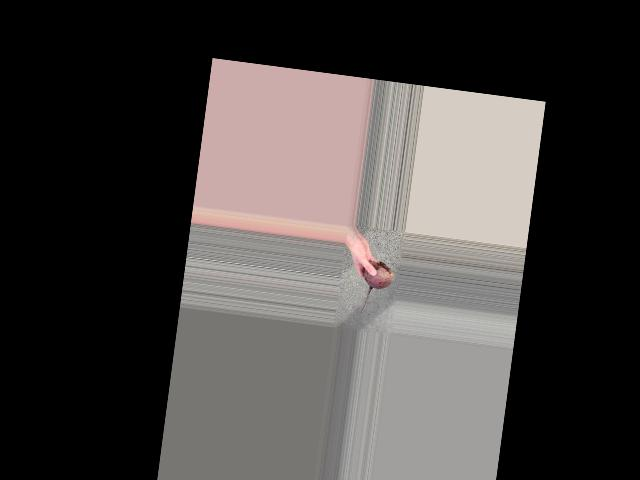beet: (359, 259, 395, 317)
